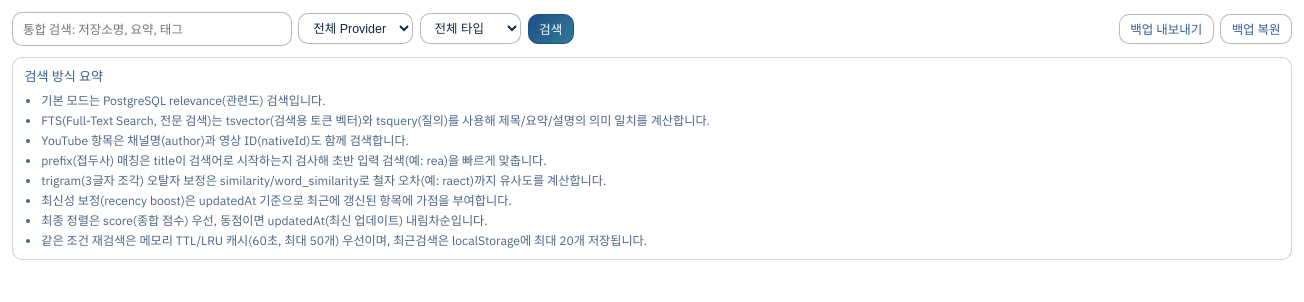
Test: UnifiedSearchFeatureEntry › shows guide when remote db is disabled
Step 1. Type "react" into the field named "통합 검색어" → (152, 29), box [12,12,292,46]
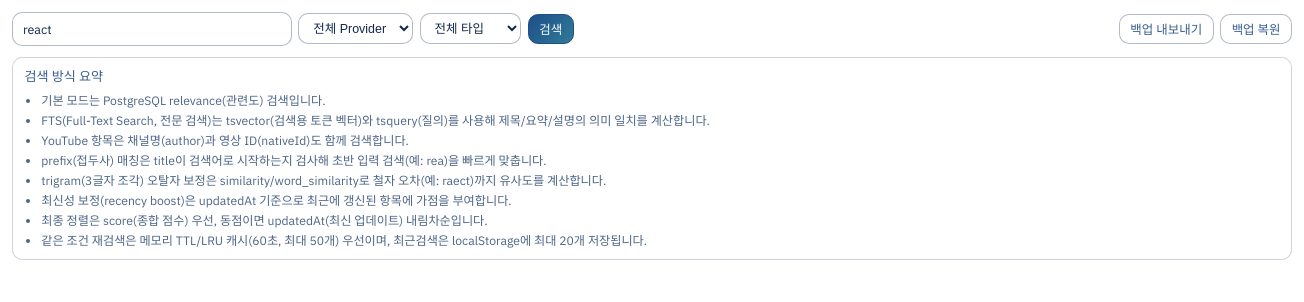
Step 2. Click the button "검색" → (551, 29), box [528,14,574,44]
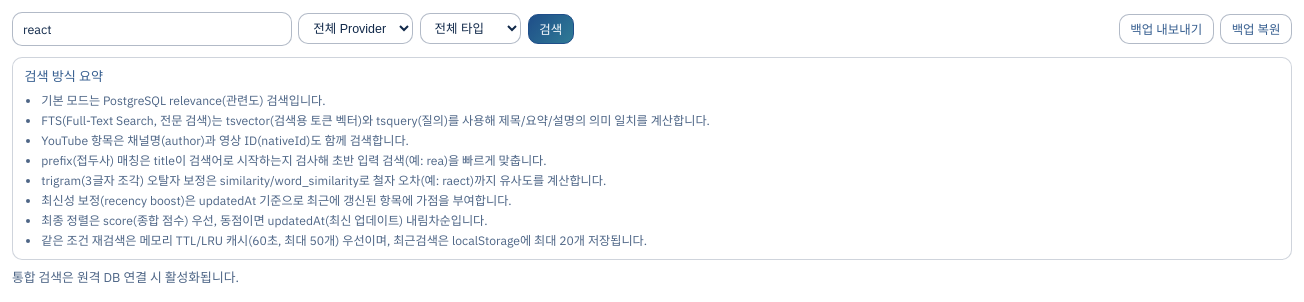
Result: the text "통합 검색은 원격 DB 연결 시 활성화됩니다." is shown at [12,269,239,286]
